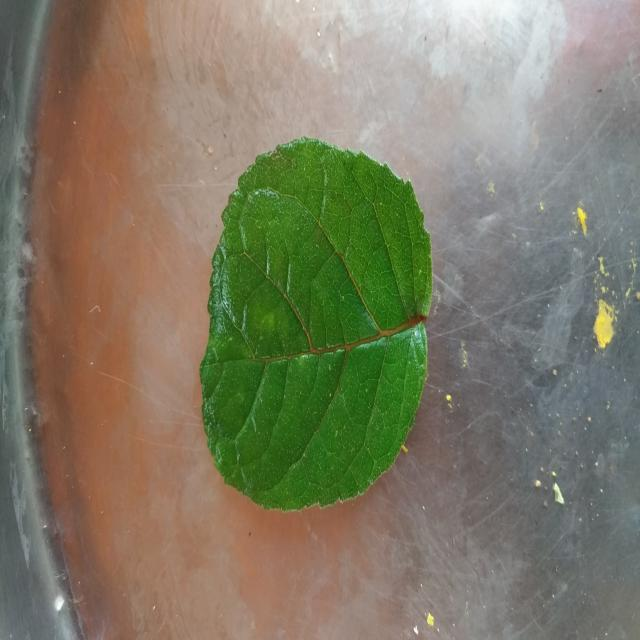padri: (200, 138, 432, 509)
